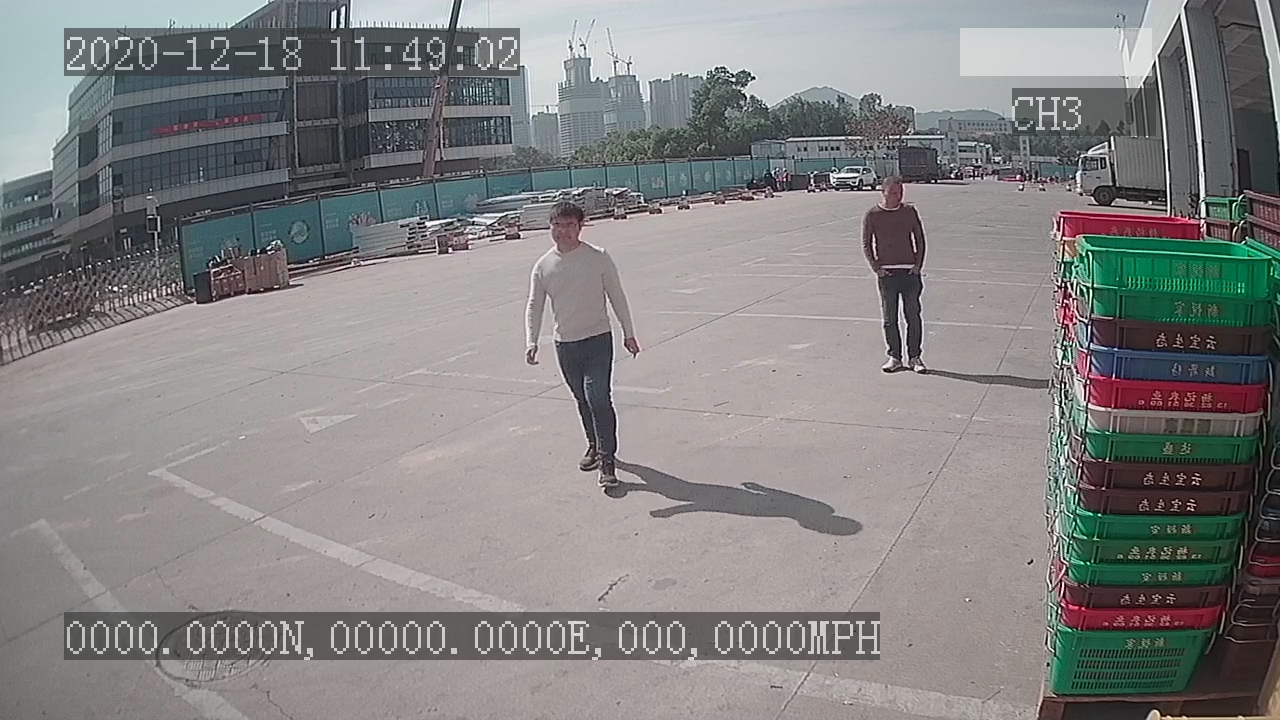person: (520, 199, 640, 495), (858, 169, 933, 378)
